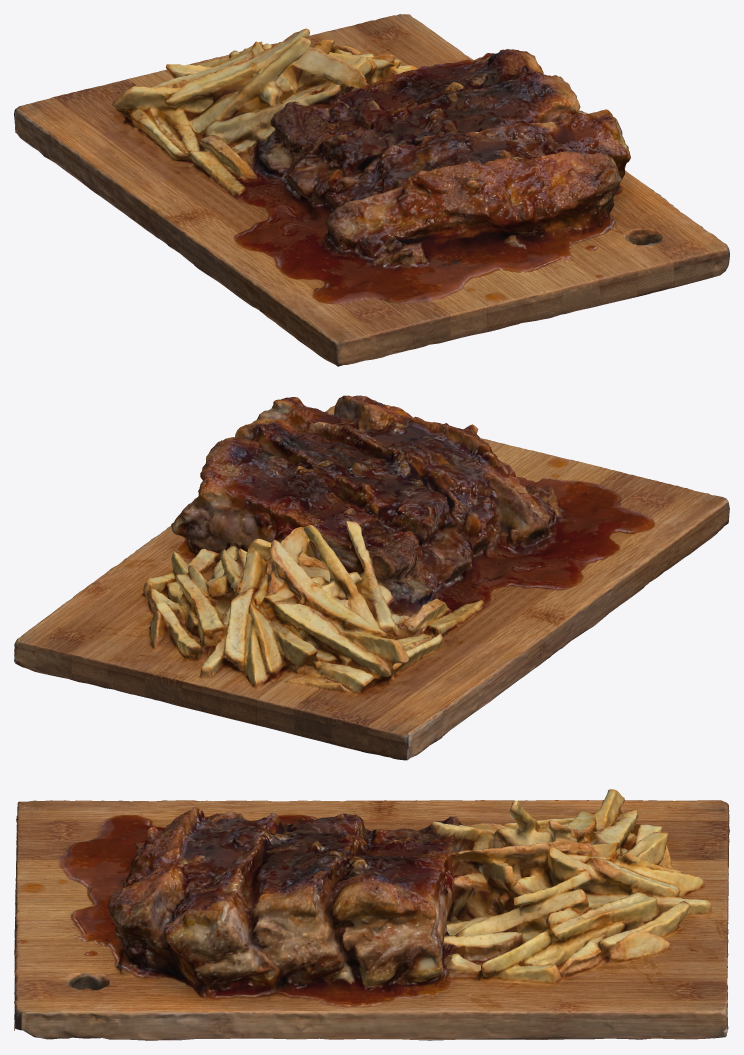
File: bbq.glb
The picture shows the model from 3 angles, top to bottom: view 1: azimuth 30°, elevation 25°; view 2: azimuth 150°, elevation 25°; view 3: azimuth 270°, elevation 25°; orthographic projection. The views are drawn at different scales.
Parts seen in each view (by area): view 1: group_0.001; view 2: group_0.001; view 3: group_0.001.
Part boxes in pixels (box(x1,y1,x2,y2)): group_0.001: box(14, 14, 729, 366); group_0.001: box(14, 395, 729, 760); group_0.001: box(14, 789, 729, 1040).
Bounding box in the file's own units: 70.91 × 20.92 × 100.
Materials: 1 (1 with a texture image).
